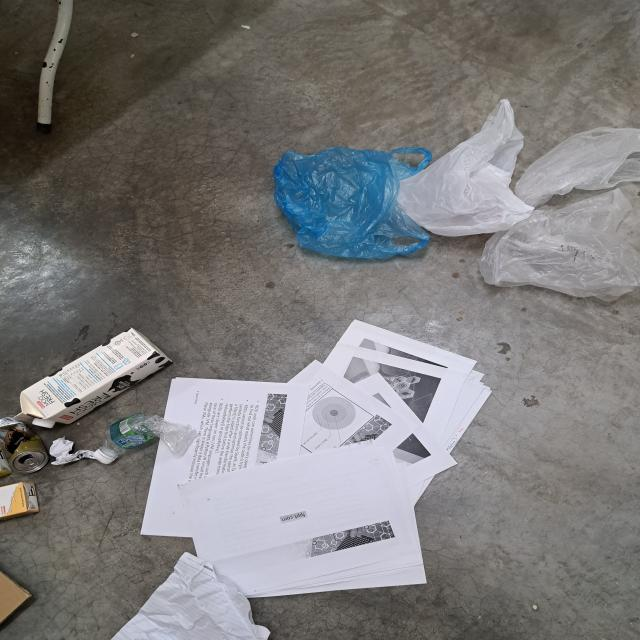can: (0, 416, 49, 473)
cardboard: (0, 569, 31, 624)
drink carton: (14, 328, 173, 428), (0, 482, 40, 520)
paper: (139, 318, 493, 597), (109, 551, 271, 640), (50, 435, 98, 465)
plastic bag: (477, 184, 640, 303), (396, 99, 536, 236), (274, 146, 433, 258), (514, 125, 640, 209)
plastic bottle: (100, 413, 197, 456)
plastic bottle cap: (93, 450, 114, 464)
pop tab: (24, 458, 40, 468)
